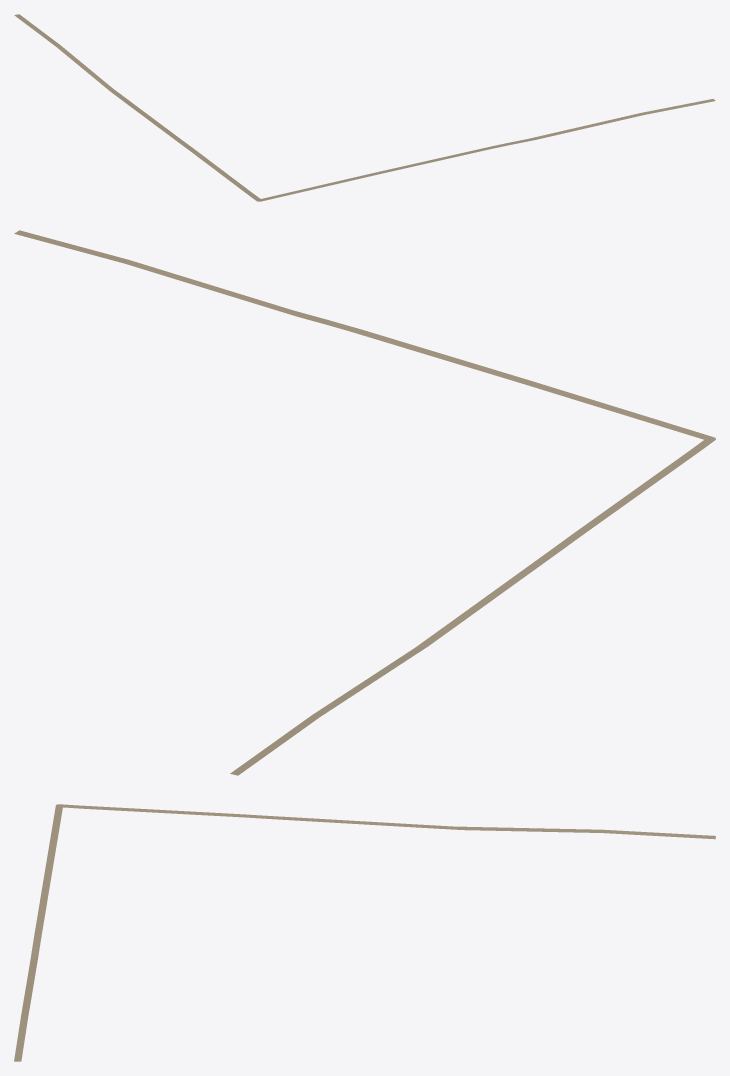
Rendered from farm_32_28_track.glb.
3 views of the same model, one above another, from view 1: azimuth 30°, elevation 25°; view 2: azimuth 150°, elevation 25°; view 3: azimuth 270°, elevation 25° (orthographic). The views are drawn at different scales.
Parts seen in each view (by area): view 1: geometry_0; view 2: geometry_0; view 3: geometry_0.
Boxes of the visible parts, <box> form: geometry_0: <box>14,14,715,201</box>; geometry_0: <box>14,230,715,775</box>; geometry_0: <box>14,804,715,1061</box>.
Bounding box in the file's own units: 279 × 13.17 × 312.
